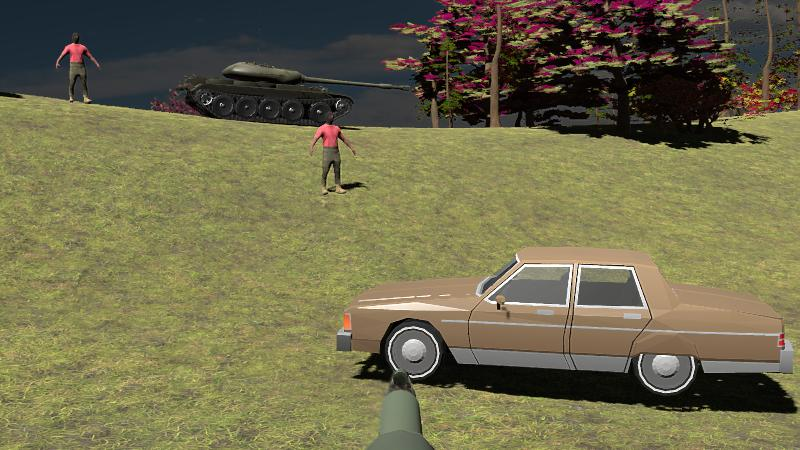Human: (310, 109, 355, 196), (56, 32, 100, 105)
Tank: (184, 61, 413, 129)
car: (336, 248, 791, 401)
